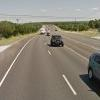Car: (44, 31, 75, 54)
